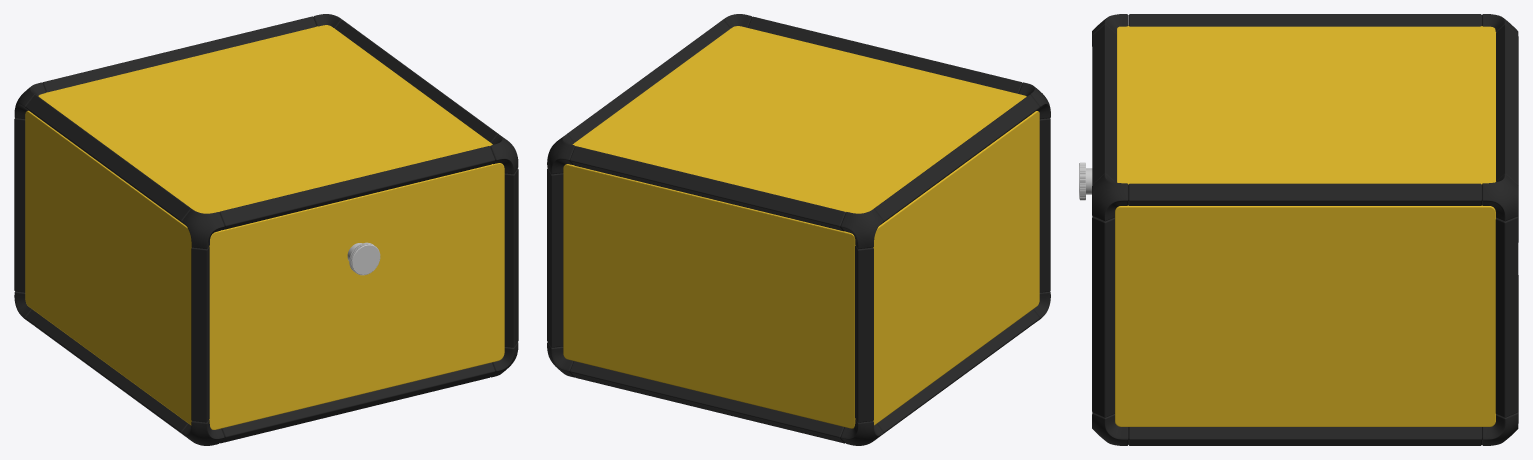
3 views of the same model, side by side, from view 1: azimuth 30°, elevation 25°; view 2: azimuth 150°, elevation 25°; view 3: azimuth 270°, elevation 25° (orthographic). The views are drawn at different scales.
Parts seen in each view (by area): view 1: 374x374x229; view 2: 374x374x229; view 3: 374x374x229.
Boxes of the visible parts, x1,y1,x2,y2 form: 374x374x229: (14, 14, 518, 445); 374x374x229: (547, 14, 1050, 445); 374x374x229: (1079, 14, 1518, 445).
Size of the model in its own units: 0.4517 by 0.3066 by 0.4646.
